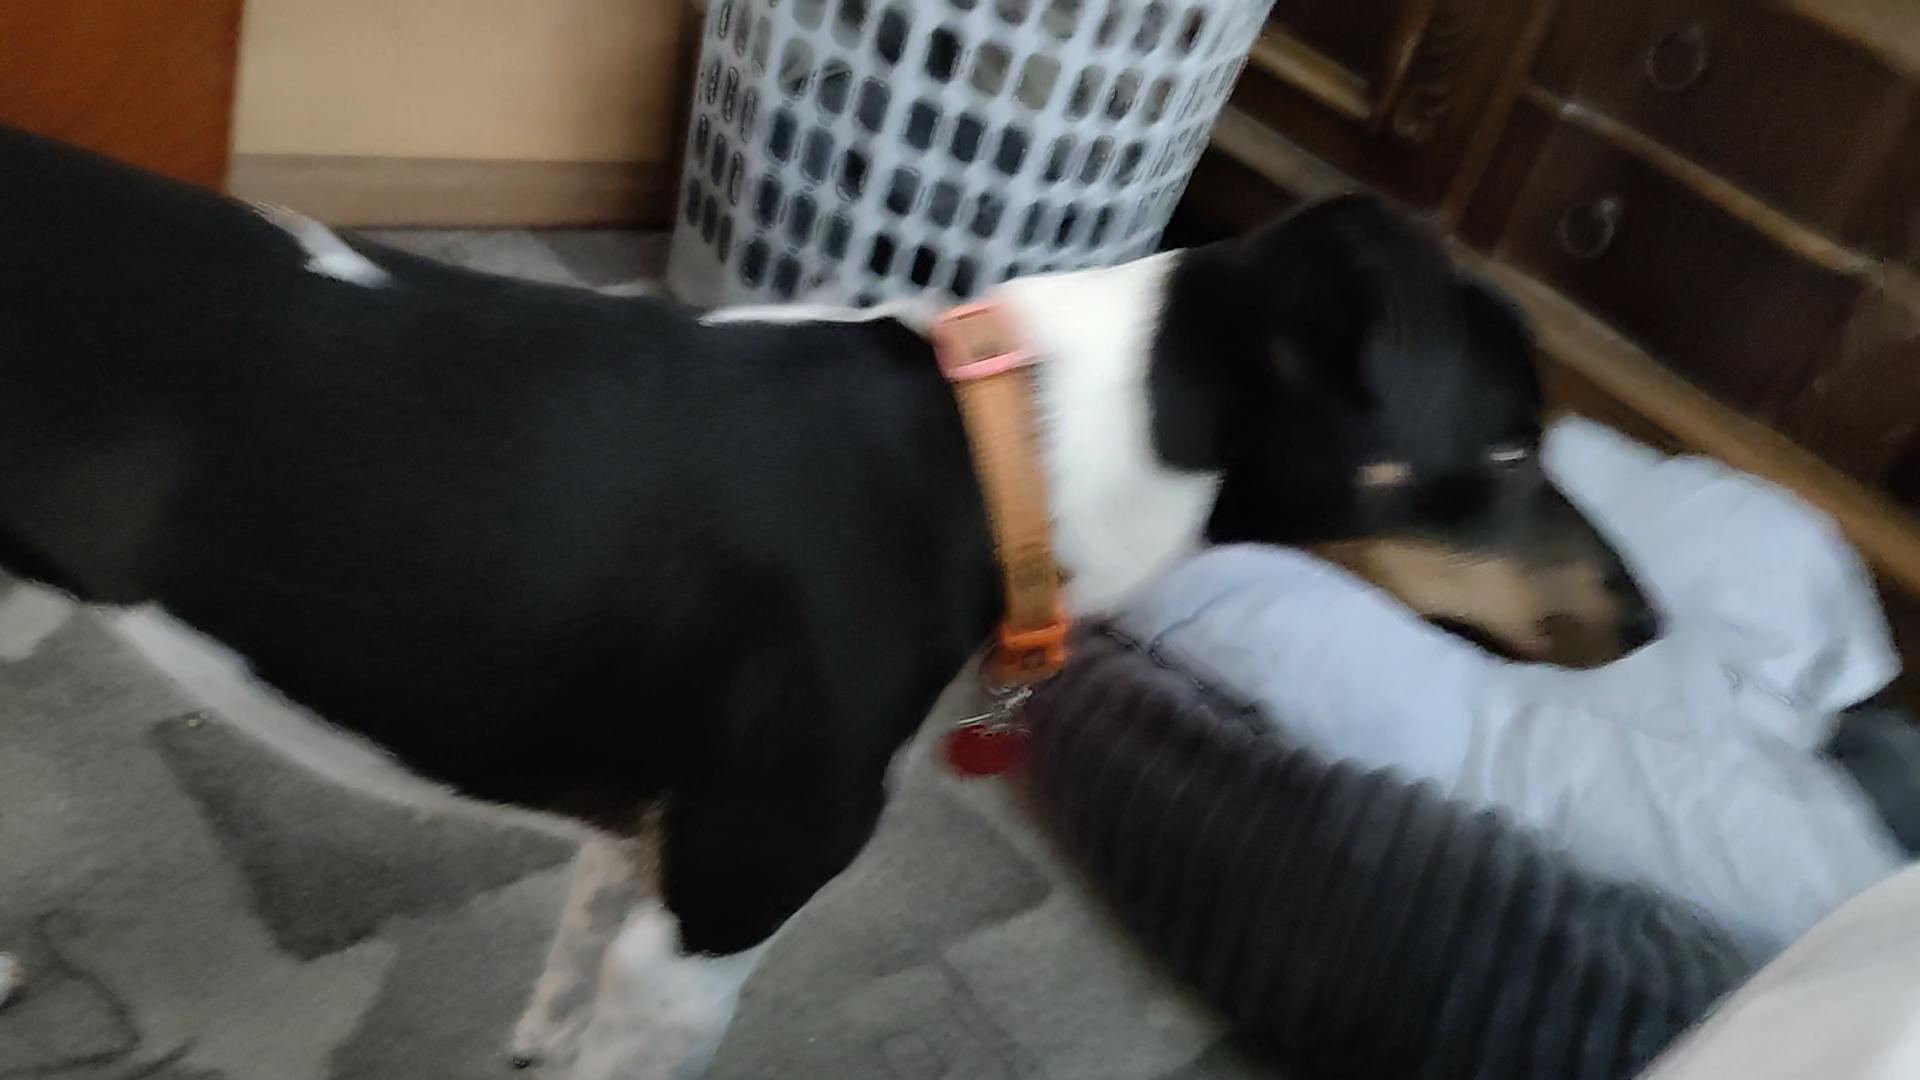Dog: (0, 109, 1683, 1079)
